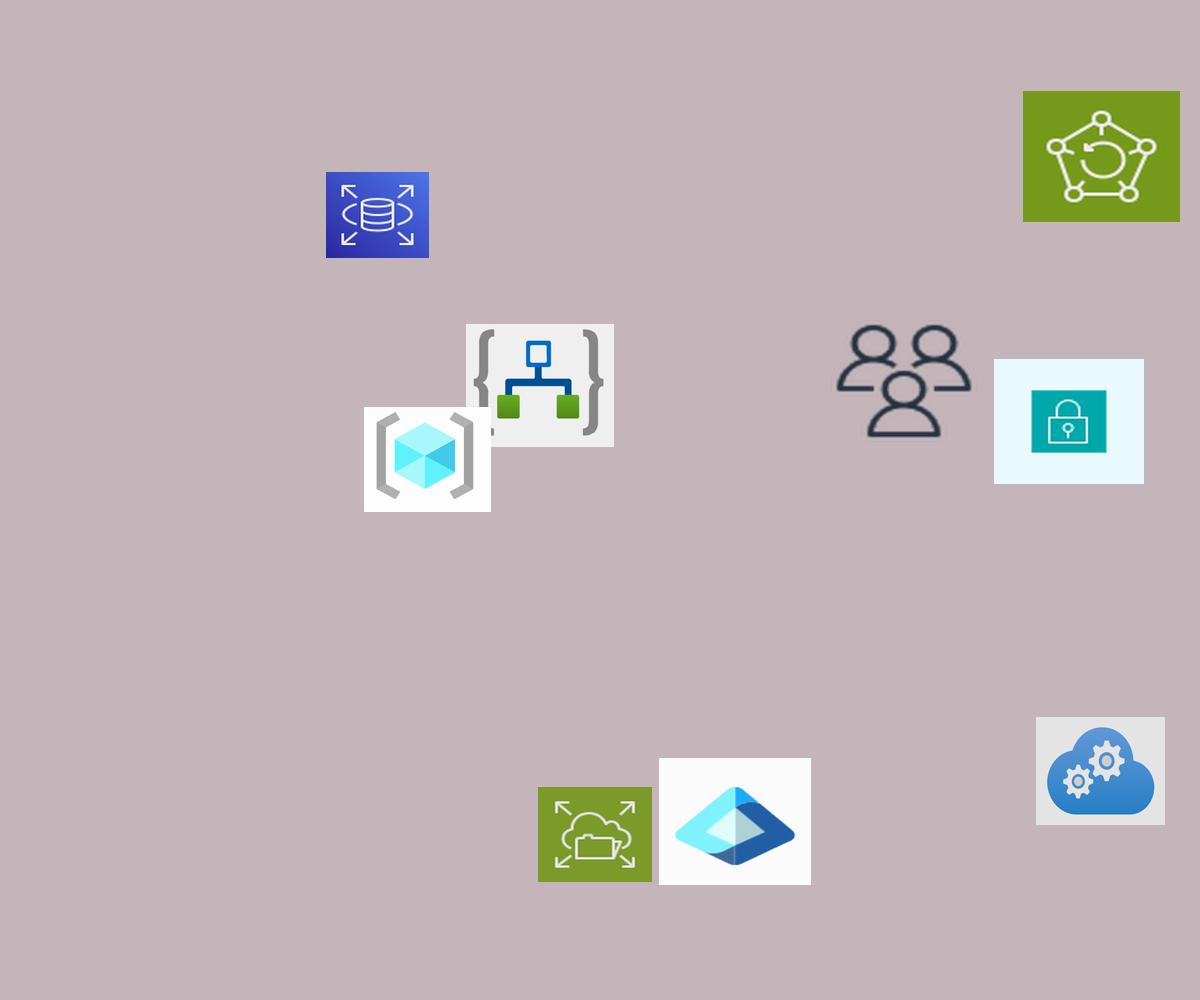AWS-Backup: (1023, 91, 1180, 222)
AWS-EFS: (538, 787, 652, 882)
AWS-Private-subnet: (994, 359, 1144, 484)
AWS-RDS: (326, 172, 429, 258)
AWS-Res_Users: (831, 320, 977, 442)
Azure_cloud_services: (1036, 717, 1165, 825)
Azure_integration-204-Logic-Apps: (466, 324, 614, 447)
Azure_microsoft_entra: (659, 758, 811, 885)
Azure_resource_group: (364, 407, 491, 512)
